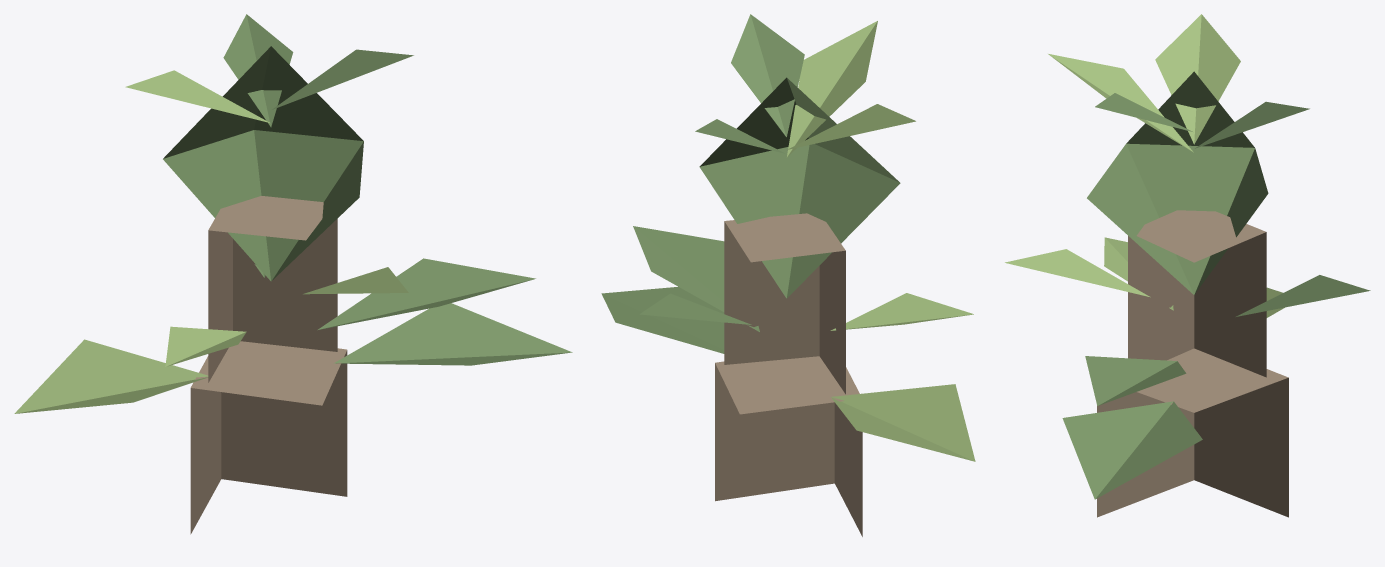
The model's file is nong.da@seedling__spring.glb.
3 views of the same model, side by side, from view 1: azimuth 30°, elevation 25°; view 2: azimuth 150°, elevation 25°; view 3: azimuth 270°, elevation 25° (orthographic). The views are drawn at different scales.
Parts seen in each view (by area): view 1: nong.da@seedling__spring; view 2: nong.da@seedling__spring; view 3: nong.da@seedling__spring.
Part boxes in pixels (box(x1,y1,x2,y2)): nong.da@seedling__spring: box(14, 14, 572, 534); nong.da@seedling__spring: box(601, 14, 975, 536); nong.da@seedling__spring: box(1005, 14, 1370, 517).
Size of the model in its own units: 0.0903 by 0.0862 by 0.0631.
